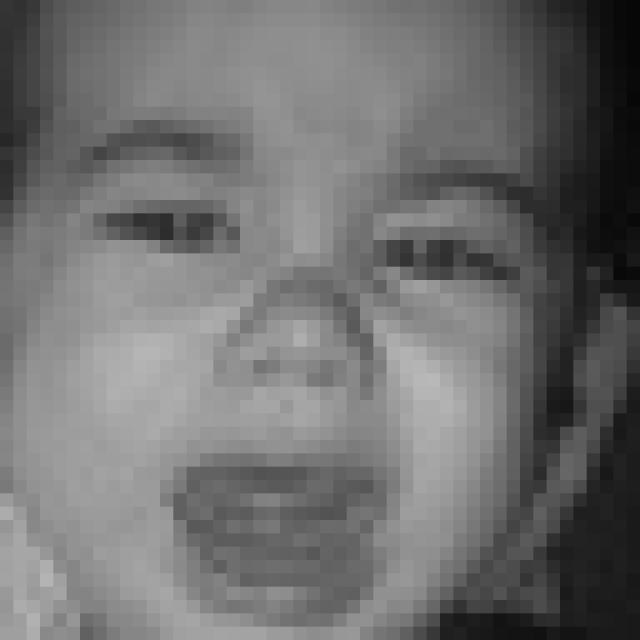sad: (47, 92, 560, 629)
